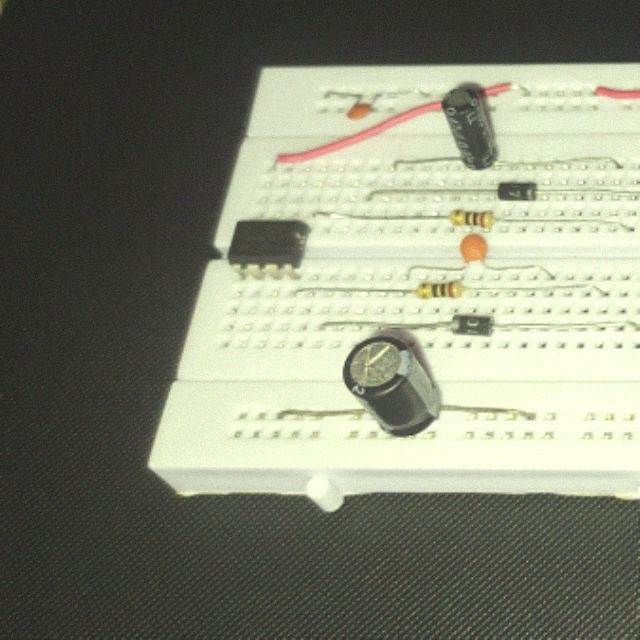capacitor: (345, 338, 443, 435), (441, 88, 499, 170), (461, 234, 490, 266), (346, 103, 375, 119)
resistor: (415, 281, 467, 300), (449, 209, 498, 227)
